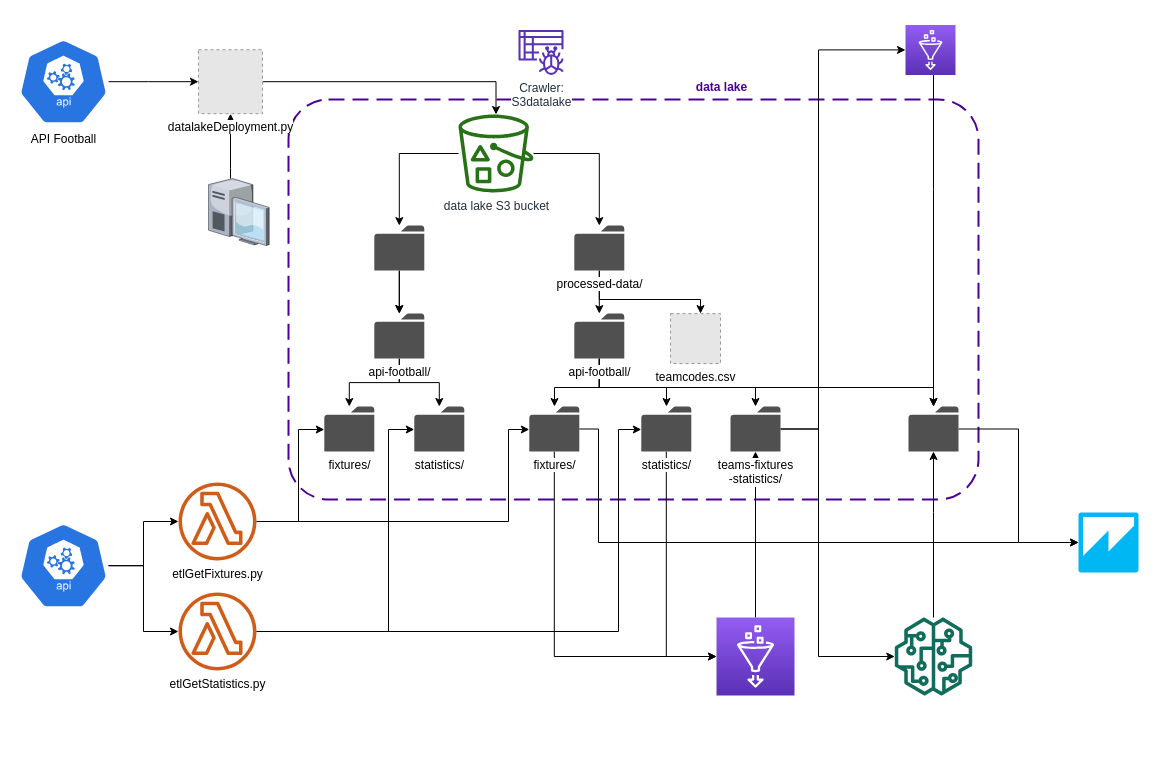
The diagram is 1173 pixels wide and 763 high, and some of its shapes have lost their labels. Grey dashed boxes stand in for pictures. The shapes that lost their labels are listed below. From the top down, each one's box as (x1, y1, x2, y2) in pixels, then its label:
(904, 24, 956, 75): Glue job: dropids
(374, 225, 424, 270): raw-data/
(908, 406, 958, 451): sagemaker -autopilot/
(1078, 512, 1138, 572): Data visualization using QuickSight
(18, 522, 108, 609): API Football Beta
(716, 616, 794, 696): Glue jobs: hometeamstatistics awayteamstatistics
(894, 617, 972, 695): Machine learning model using SageMaker: xGoals
